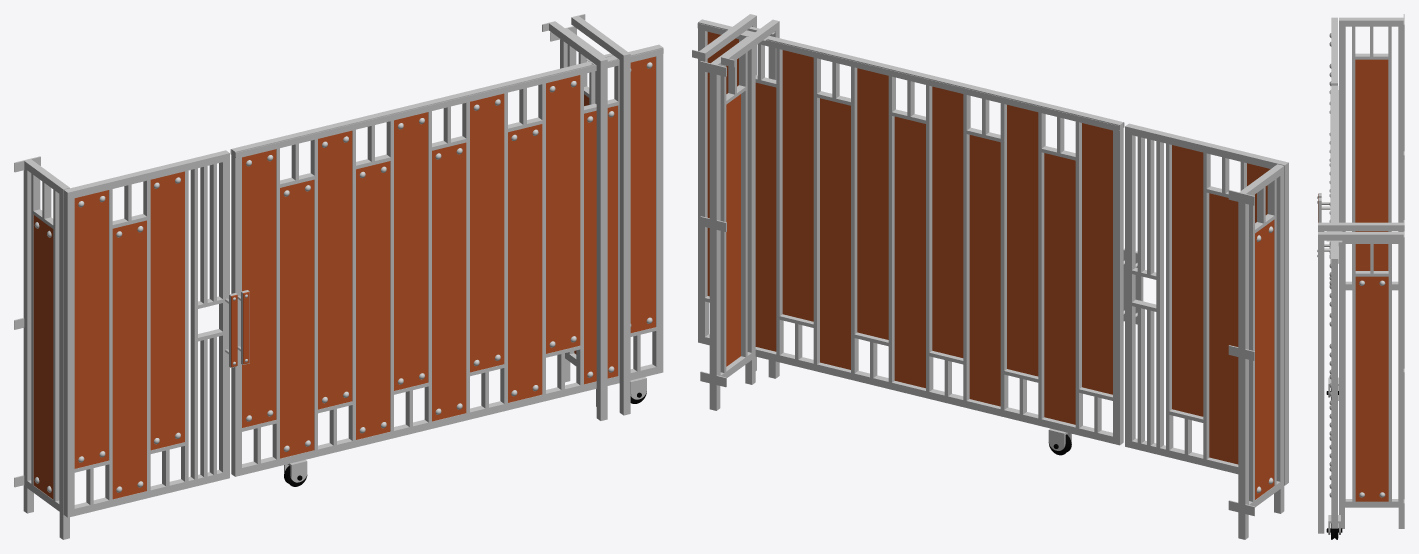
The model's file is pagar-concept-002-RAW-REV0113.glb.
3 renders of one model, left to right at view 1: azimuth 30°, elevation 25°; view 2: azimuth 150°, elevation 25°; view 3: azimuth 270°, elevation 25°, orthographic. The views are drawn at different scales.
Parts seen in each view (by area): view 1: Plane.095, Plane.122, Plane.094, Plane.092, Plane.123, Plane.093, Plane.108, Plane.118, Plane.119, Plane.116, Plane.100, Sphere.013; view 2: Plane.095, Plane.094, Plane.122, Plane.123, Plane.092, Plane.093, Plane.119, Plane.114, Plane.118, Plane.113, Plane.115, Plane.116 (+4 smaller); view 3: Plane.115, Plane.118, Plane.114, Plane.108, Plane.119, Plane.123, Plane.113, Plane.116, Plane.093, Plane.100, Sphere.013, Plane.096 (+2 smaller).
Part boxes in pixels (x1,y1,x2,y2): Plane.095: (242,56,655,458); Plane.122: (74,171,184,499); Plane.094: (242,65,656,463); Plane.092: (74,163,222,504); Plane.123: (231,44,663,476); Plane.093: (63,150,229,517); Plane.108: (542,14,630,420); Plane.118: (33,215,53,499); Plane.119: (23,158,69,514); Plane.116: (31,173,59,501); Plane.100: (230,48,663,157); Sphere.013: (246,62,652,451); Plane.095: (707,32,1112,424); Plane.094: (705,39,1112,432); Plane.122: (1172,145,1270,464); Plane.123: (698,19,1123,445); Plane.092: (1132,136,1246,459); Plane.093: (1125,123,1288,485); Plane.119: (1238,164,1284,514); Plane.114: (709,37,755,385); Plane.118: (1255,220,1274,499); Plane.113: (720,52,747,372); Plane.115: (726,94,740,366); Plane.116: (1249,179,1276,501); Plane.115: (1355,276,1388,501); Plane.118: (1355,59,1388,270); Plane.114: (1339,240,1404,507); Plane.108: (1318,220,1404,533); Plane.119: (1339,17,1404,290); Plane.123: (1331,85,1337,528); Plane.113: (1352,244,1391,501); Plane.116: (1352,26,1391,283); Plane.093: (1331,17,1337,85); Plane.100: (1330,86,1338,263); Sphere.013: (1329,102,1331,497); Plane.096: (1318,198,1330,251).
Size of the model in its own units: 3.5 by 1.99 by 0.5297.
